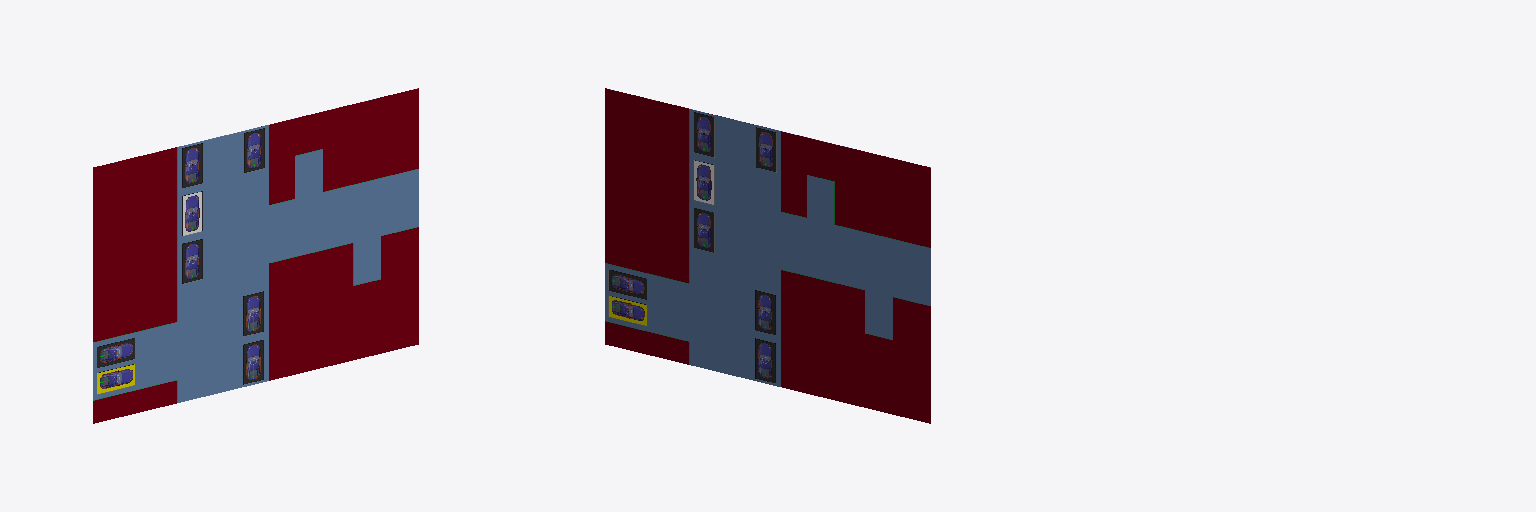
3 renders of one model, left to right at view 1: azimuth 30°, elevation 25°; view 2: azimuth 150°, elevation 25°; view 3: azimuth 270°, elevation 25°, orthographic.
Parts seen in each view (by area): view 1: Cube; view 2: Cube; view 3: none.
Boxes of the visible parts, x1=… form: Cube: x1=93, y1=88, x2=418, y2=423; Cube: x1=605, y1=88, x2=930, y2=423.
Size of the model in its own units: 800 by 600 by 1.
Materials: 1 (1 with a texture image).